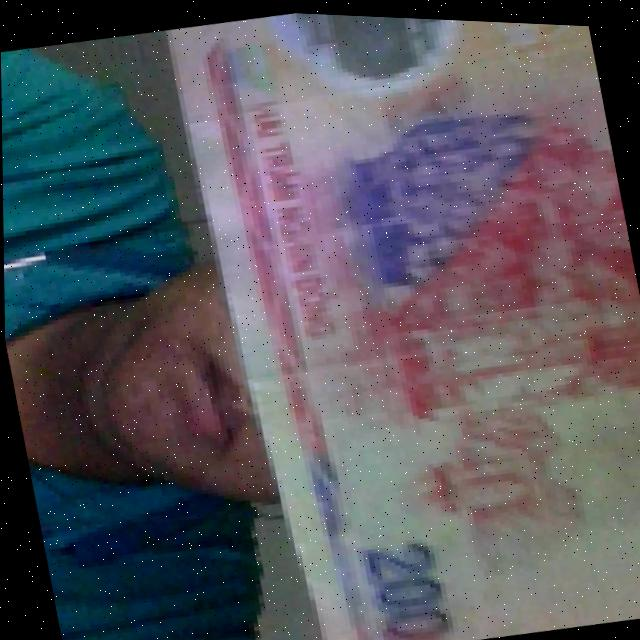200 000 VND: (169, 6, 640, 640)
